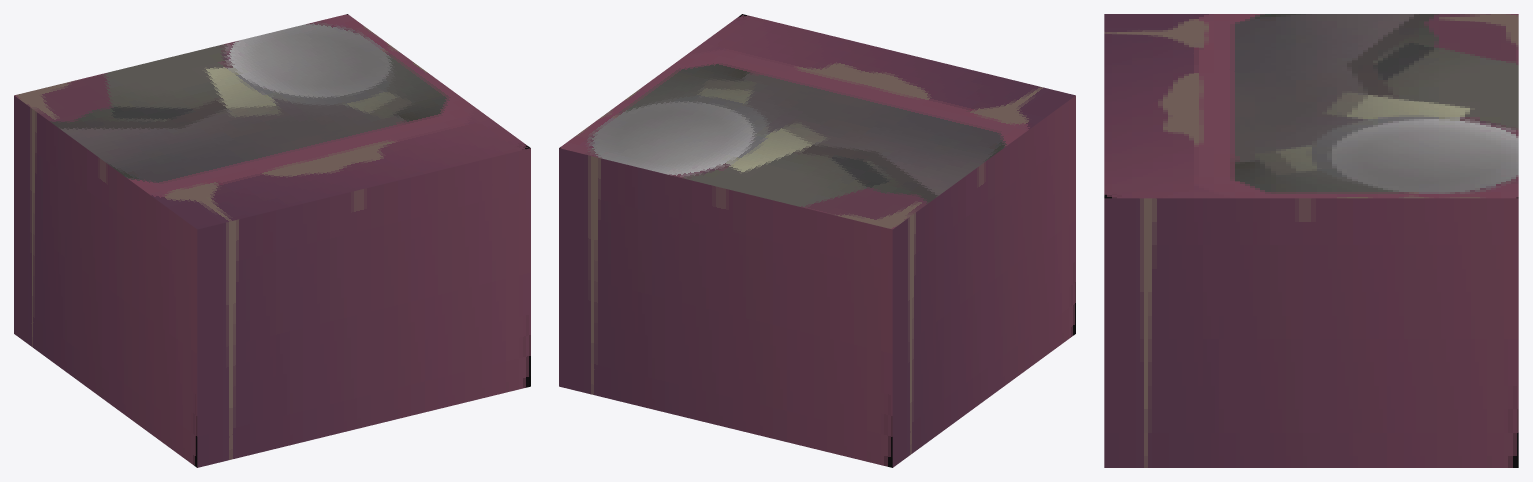
The model's file is Building_AncientBox_ComponentSpacer.glb.
The picture shows the model from 3 angles, left to right: view 1: azimuth 30°, elevation 25°; view 2: azimuth 150°, elevation 25°; view 3: azimuth 270°, elevation 25°; orthographic projection. The views are drawn at different scales.
Parts seen in each view (by area): view 1: AncientBox_ComponentSpacer; view 2: AncientBox_ComponentSpacer; view 3: AncientBox_ComponentSpacer.
Part boxes in pixels (bbox=[...]): AncientBox_ComponentSpacer: bbox=[14, 14, 530, 467]; AncientBox_ComponentSpacer: bbox=[559, 14, 1075, 467]; AncientBox_ComponentSpacer: bbox=[1104, 14, 1518, 467].
Bounding box in the file's own units: 0.82 × 0.56 × 0.78.
Materials: 1 (1 with a texture image).
